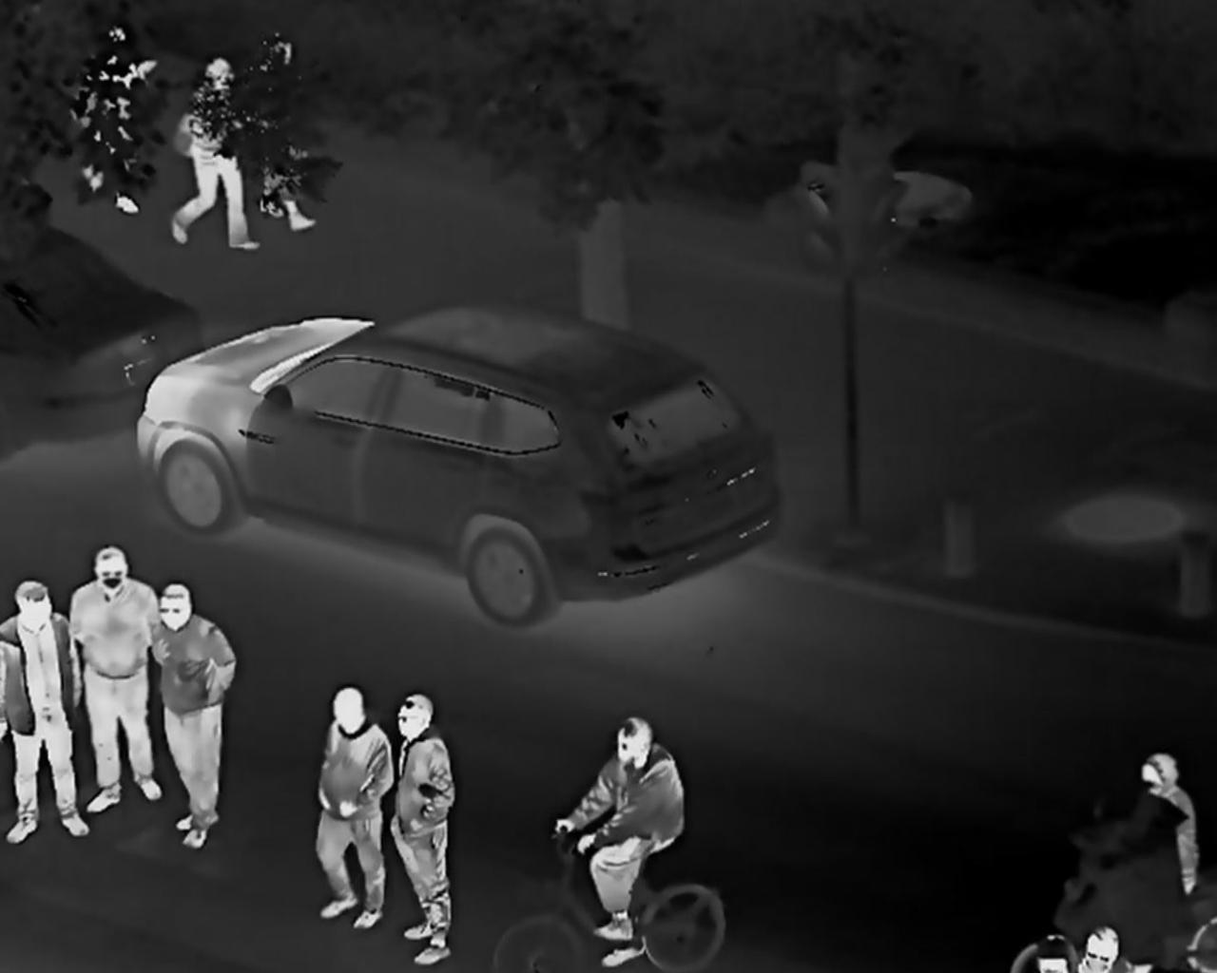person: (557, 709, 696, 970), (9, 579, 89, 837), (1111, 742, 1217, 929), (167, 594, 239, 835), (96, 518, 159, 792), (405, 692, 462, 973), (200, 59, 251, 265), (324, 668, 369, 892)
